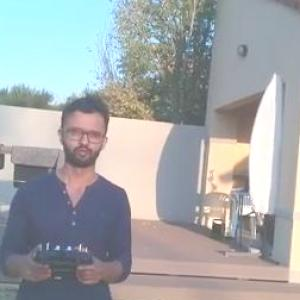follow: (0, 89, 142, 299)
